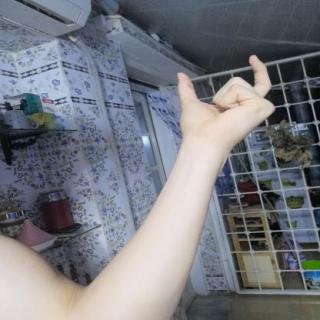NOON: (166, 48, 285, 157)
